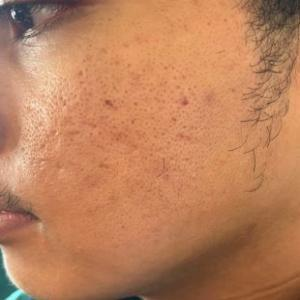Dry-Skin: (28, 49, 240, 208)
